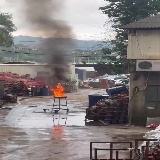fire: (50, 82, 66, 96)
